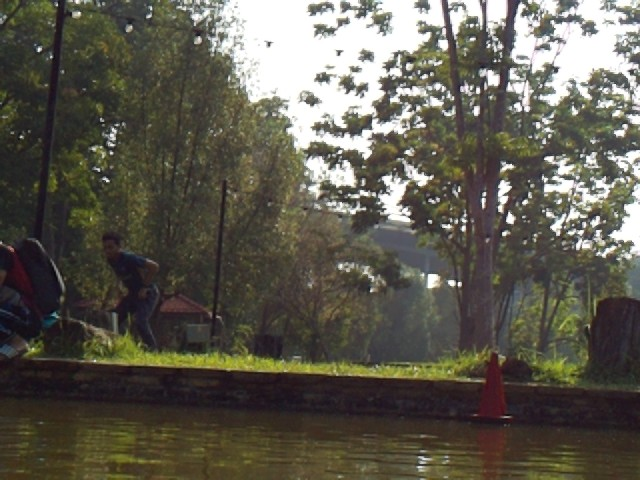obstacle: (472, 353, 515, 427)
